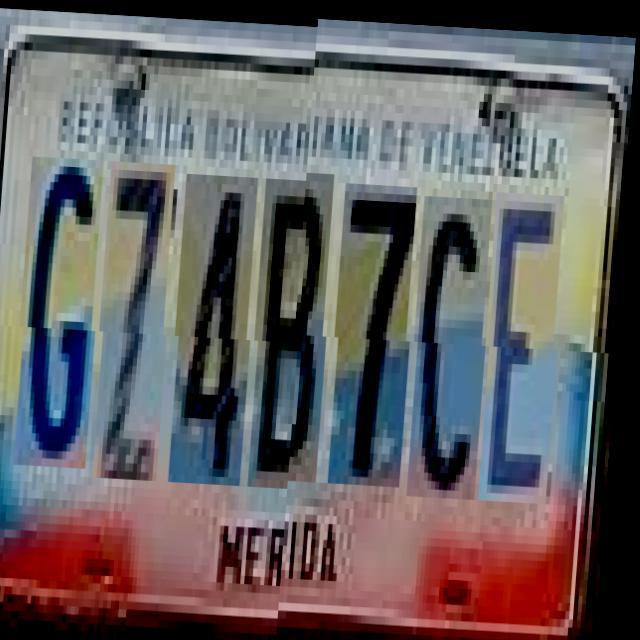4: (176, 172, 264, 482)
7: (334, 187, 424, 490)
B: (255, 175, 340, 486)
C: (414, 198, 498, 502)
E: (485, 194, 570, 505)
G: (21, 156, 110, 468)
Z: (100, 160, 182, 479)
